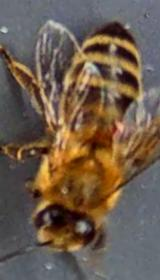varroa_mite: (97, 114, 132, 146)
